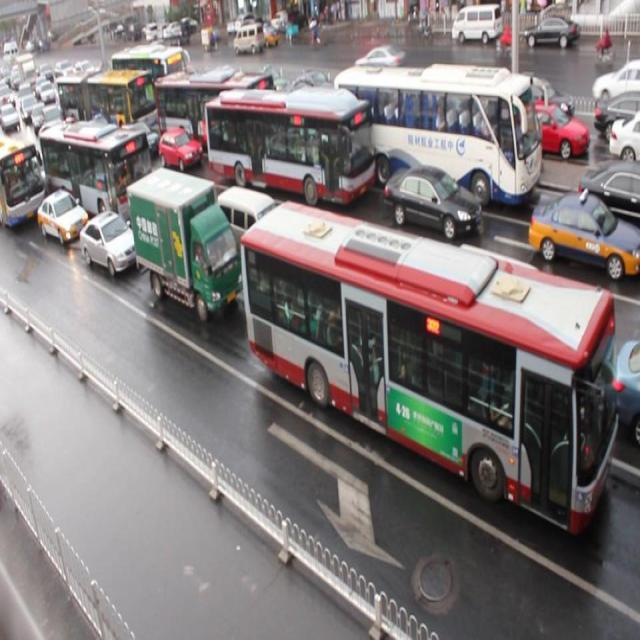BigCar: (244, 185, 618, 518), (336, 61, 541, 203), (205, 94, 370, 199), (141, 174, 235, 326), (40, 116, 156, 213)
car: (534, 177, 634, 275), (382, 152, 480, 246), (81, 209, 132, 296), (34, 178, 76, 257)
